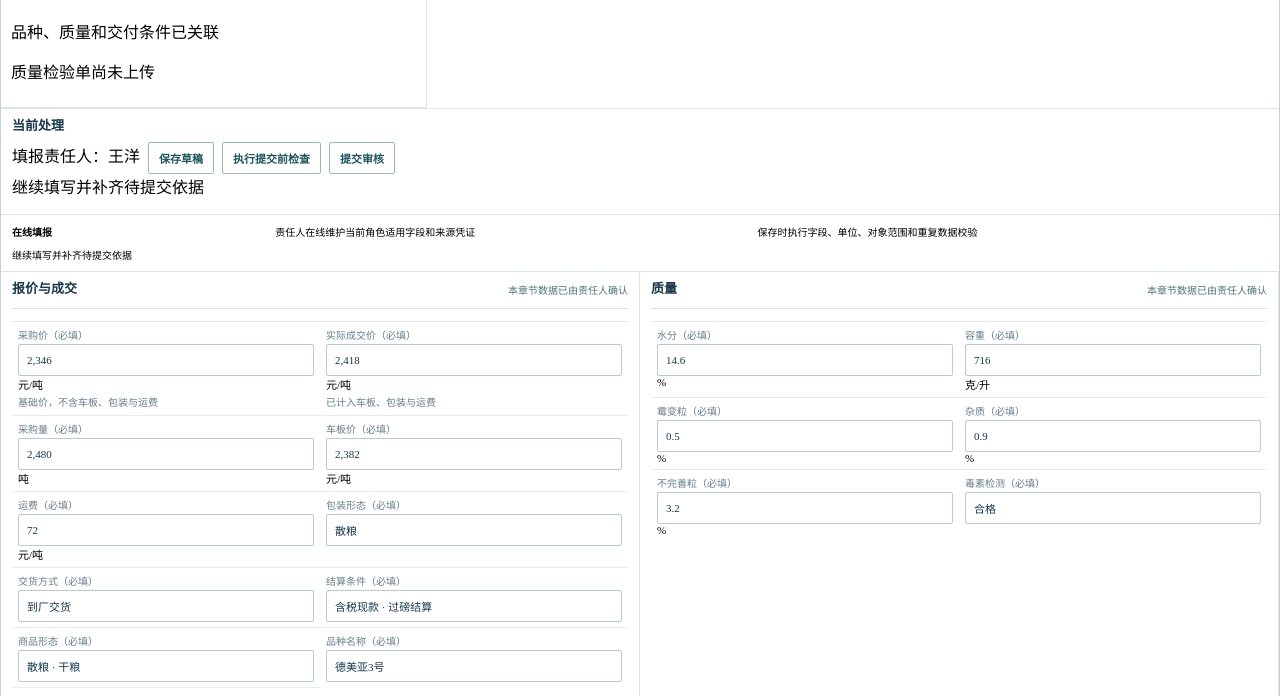
it: market document workbench lifecycle actions › edits online fields and saves a local draft without implying submission
(page scrolled)
Clear the field named "采购价" at (166, 360), box x1=18 y1=344 x2=314 y2=376
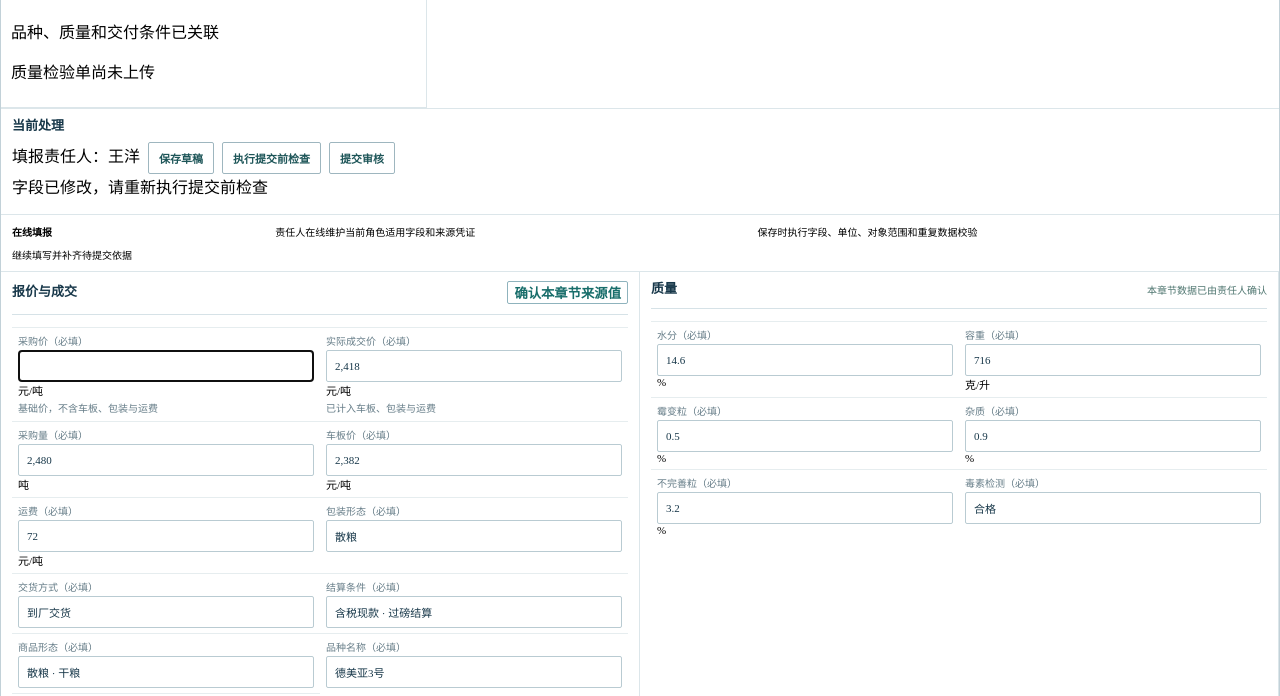
Type "2,400" into the field named "采购价" at (166, 366), box x1=18 y1=350 x2=314 y2=382
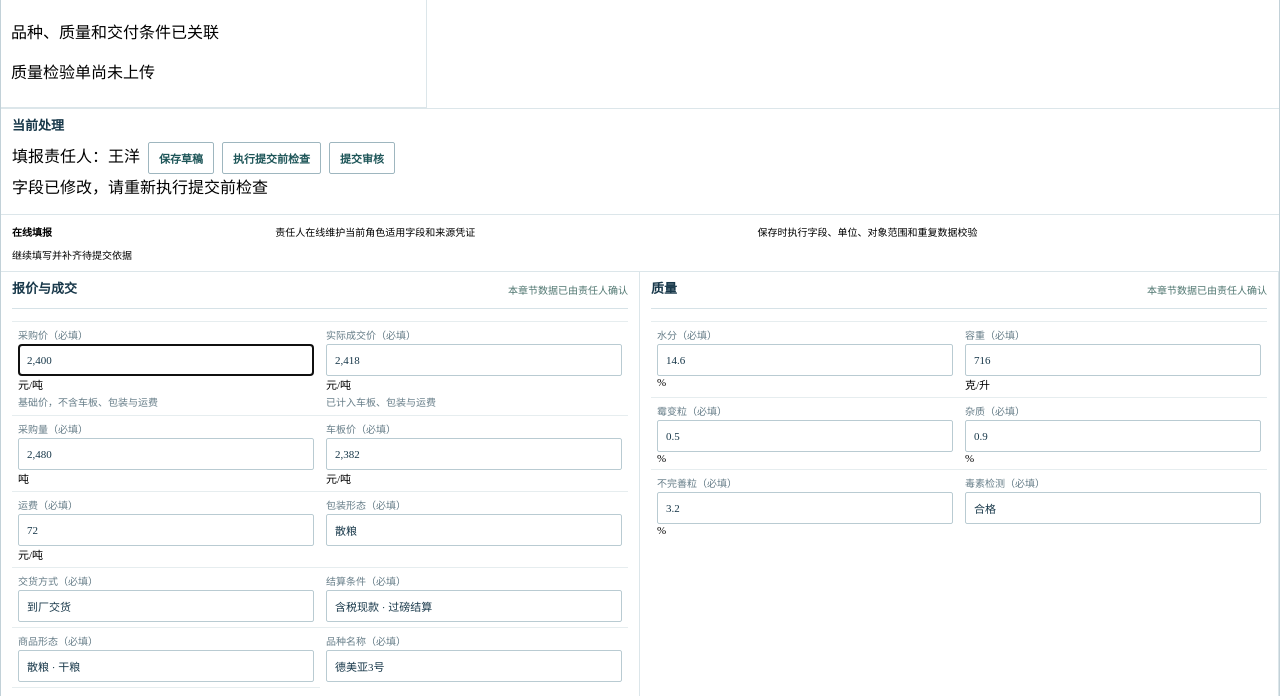
Expected: the message reads "字段已修改，请重新执行提交前检查", x1=12 y1=179 x2=268 y2=196
Click the button "保存草稿" at (181, 158), box x1=148 y1=142 x2=214 y2=174
(page scrolled)
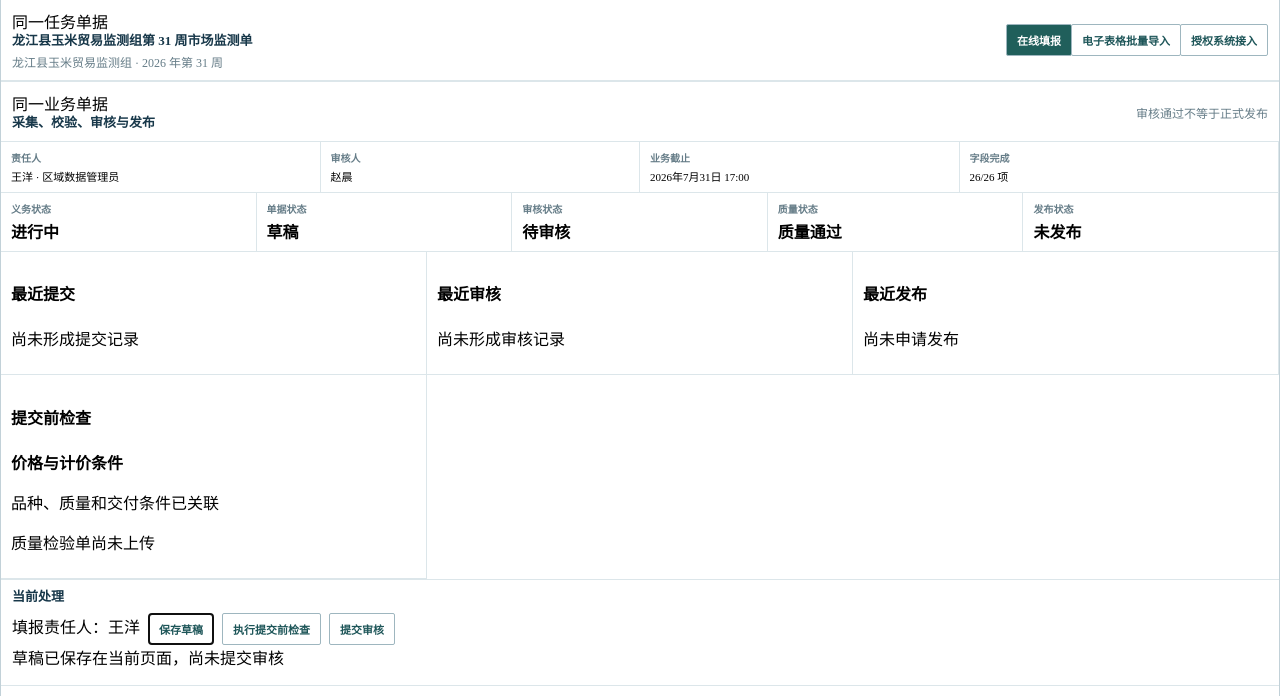
Expected: the element named "任务五状态" shows "草稿", x1=267 y1=224 x2=299 y2=241
Expected: the message reads "草稿已保存在当前页面，尚未提交审核", x1=12 y1=650 x2=284 y2=667
